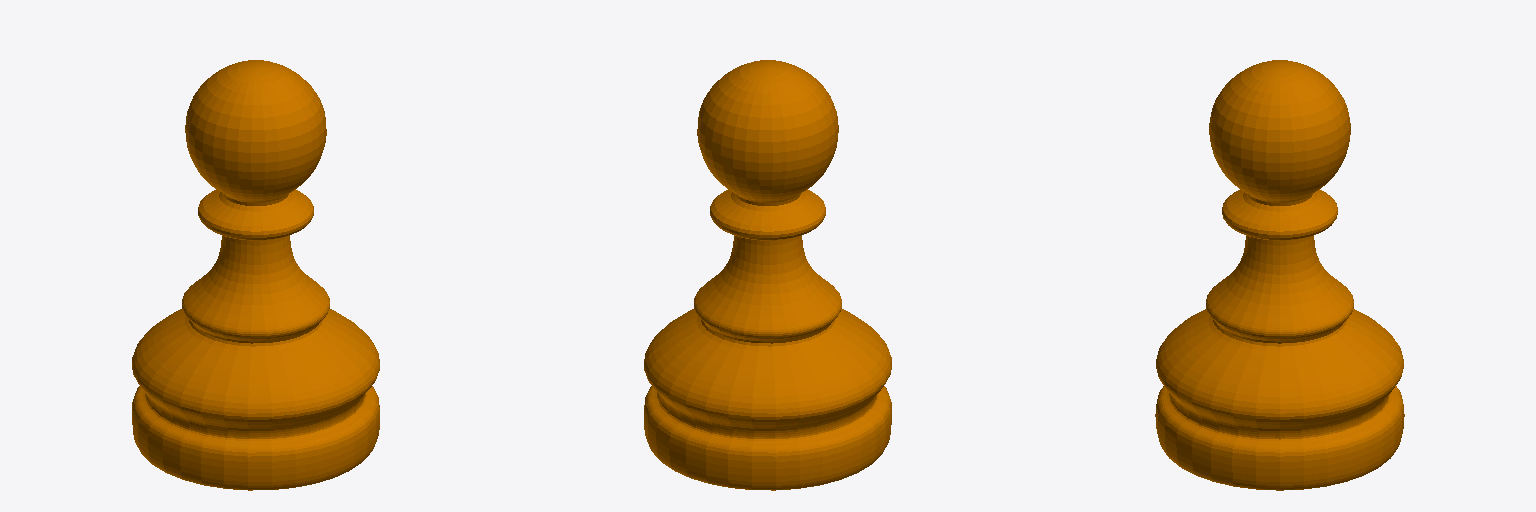
File: pawn.obj
3 renders of one model, left to right at view 1: azimuth 30°, elevation 25°; view 2: azimuth 150°, elevation 25°; view 3: azimuth 270°, elevation 25°, orthographic.
Parts seen in each view (by area): view 1: Pawn.001; view 2: Pawn.001; view 3: Pawn.001.
Part boxes in pixels (left/top/right/bottom): Pawn.001: left=132, top=60, right=379, bottom=490; Pawn.001: left=644, top=60, right=891, bottom=490; Pawn.001: left=1155, top=60, right=1404, bottom=490.
Size of the model in its own units: 0.5004 by 0.8394 by 0.5004.